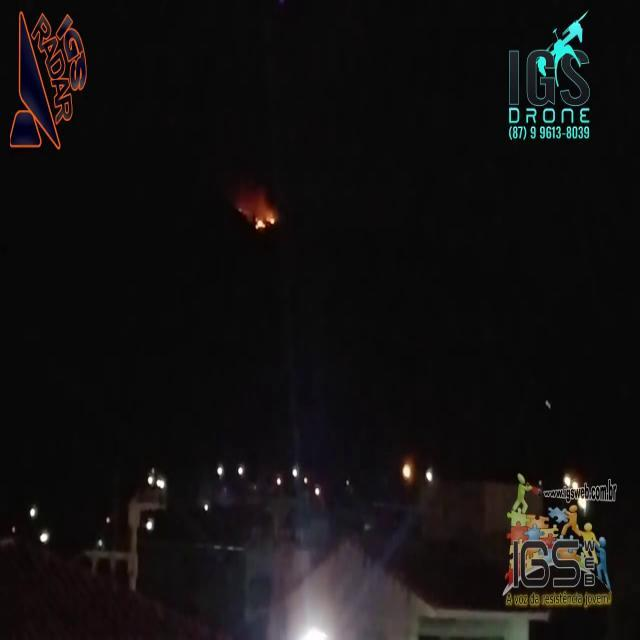Fire: (254, 212, 274, 230)
